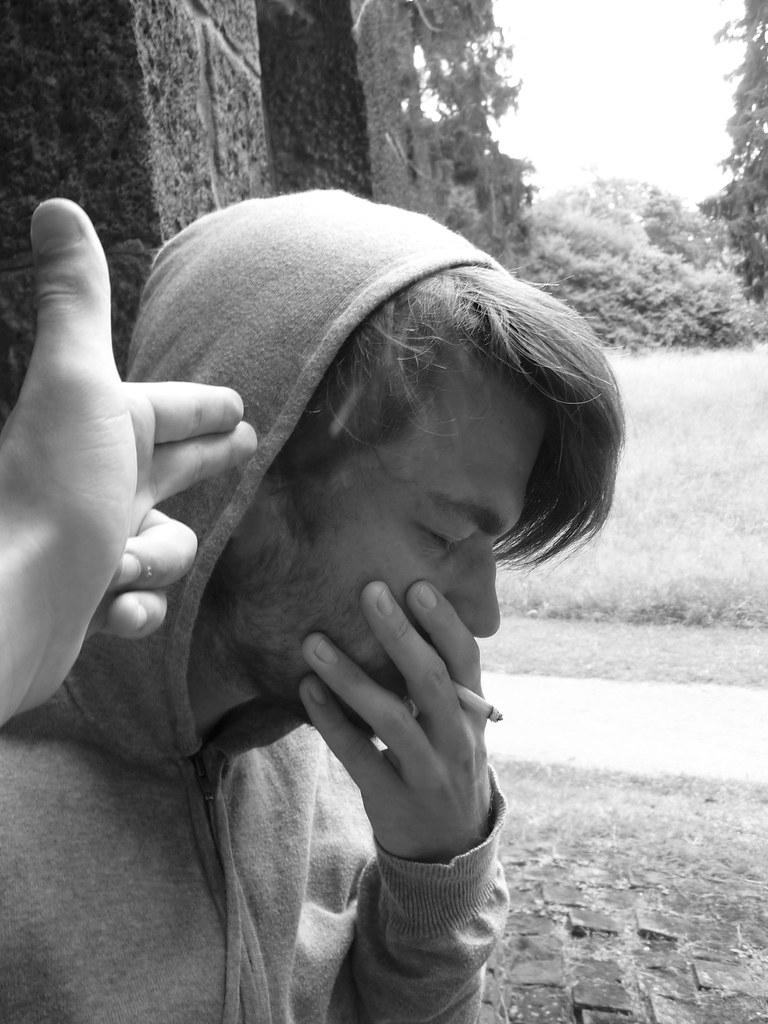cigarette: (450, 678, 507, 725)
